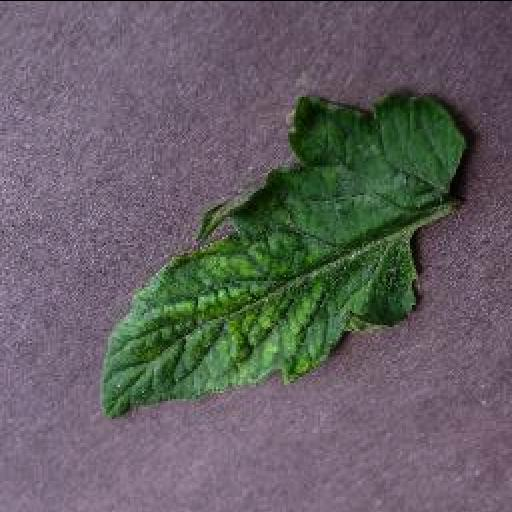disease_tomato: (98, 88, 468, 422)
